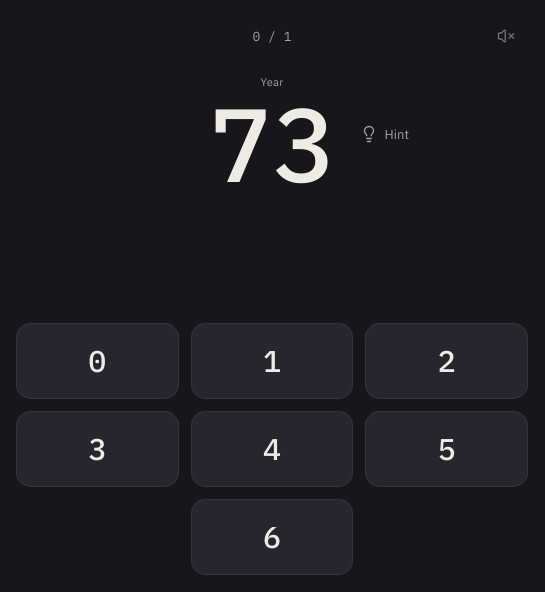
Review loop › states the session in numbers once the queue empties
Expected: the heading named "Year 73" is shown, x1=210 y1=90 x2=334 y2=194
Click the button "0": (97, 360) x1=16 y1=322 x2=179 y2=398
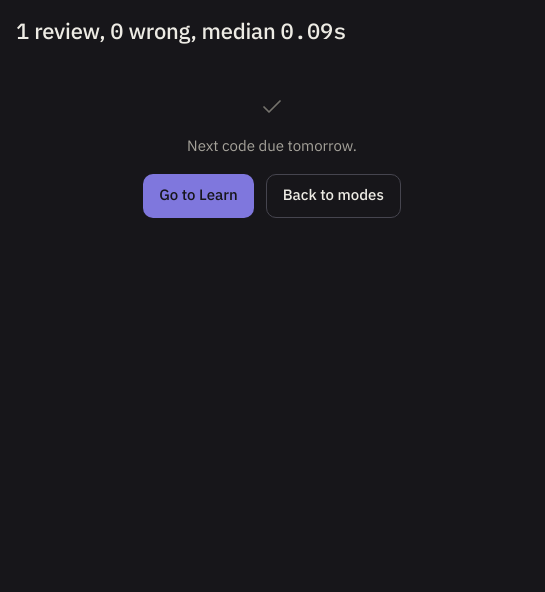
Expected: the heading shows "1 review, 0 wrong, median", x1=16 y1=16 x2=346 y2=45
Expected: the text "Next code due tomorrow." is shown, x1=187 y1=135 x2=357 y2=158
